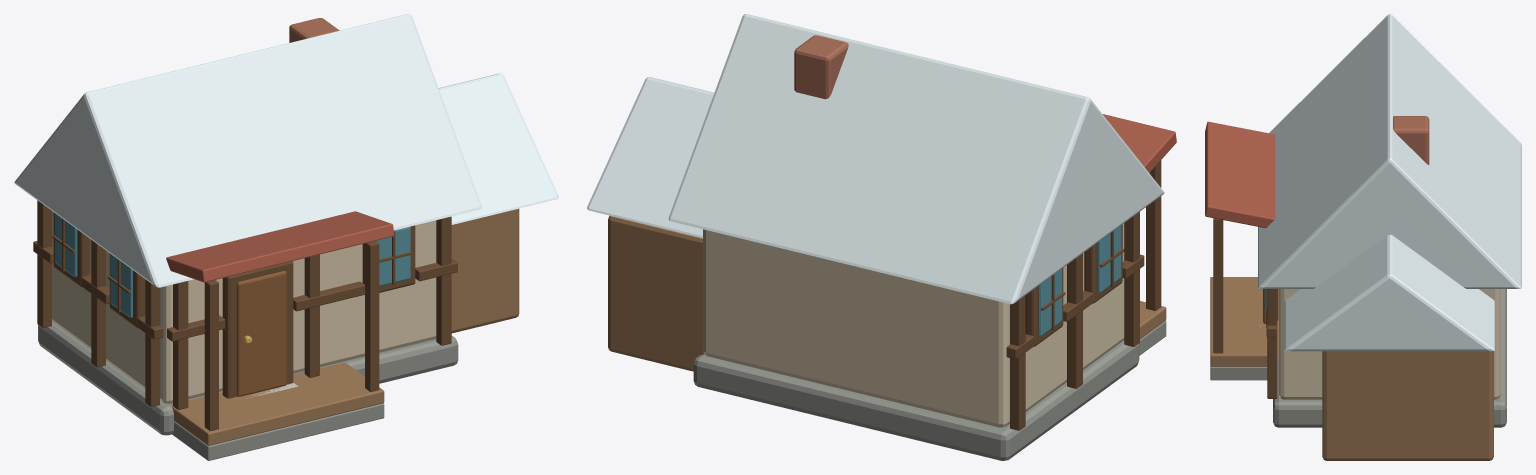
File: snowy-cottage-2.glb
3 renders of one model, left to right at view 1: azimuth 30°, elevation 25°; view 2: azimuth 150°, elevation 25°; view 3: azimuth 270°, elevation 25°, orthographic. The views are drawn at different scales.
Parts seen in each view (by area): view 1: Snow, Dark beams, Ivory plaster, Aged oak, Foundation stone, Clay tiles, Door oak, Blue glass, Chimney brick; view 2: Snow, Ivory plaster, Foundation stone, Aged oak, Dark beams, Chimney brick, Blue glass, Clay tiles; view 3: Snow, Aged oak, Clay tiles, Foundation stone, Ivory plaster, Dark beams, Chimney brick.
Boxes of the visible parts, left/top/right/bottom form: Snow: left=14, top=14, right=558, bottom=287; Dark beams: left=33, top=200, right=457, bottom=430; Ivory plaster: left=52, top=211, right=436, bottom=403; Aged oak: left=170, top=208, right=519, bottom=445; Foundation stone: left=38, top=321, right=458, bottom=460; Clay tiles: left=166, top=211, right=394, bottom=282; Door oak: left=236, top=271, right=286, bottom=396; Blue glass: left=55, top=213, right=410, bottom=317; Chimney brick: left=289, top=18, right=339, bottom=42; Snow: left=587, top=14, right=1164, bottom=304; Ivory plaster: left=703, top=223, right=1124, bottom=427; Foundation stone: left=693, top=321, right=1166, bottom=460; Aged oak: left=608, top=215, right=1166, bottom=371; Dark beams: left=1006, top=160, right=1161, bottom=430; Chimney brick: left=794, top=35, right=848, bottom=99; Blue glass: left=1038, top=225, right=1121, bottom=336; Clay tiles: left=1103, top=114, right=1176, bottom=172; Snow: left=1258, top=14, right=1521, bottom=351; Aged oak: left=1210, top=277, right=1493, bottom=460; Clay tiles: left=1205, top=121, right=1275, bottom=228; Foundation stone: left=1210, top=289, right=1506, bottom=427; Ivory plaster: left=1279, top=289, right=1500, bottom=399; Dark beams: left=1213, top=218, right=1278, bottom=398; Chimney brick: left=1393, top=116, right=1429, bottom=164.
Size of the model in its own units: 4.4 by 3.03 by 3.14.
